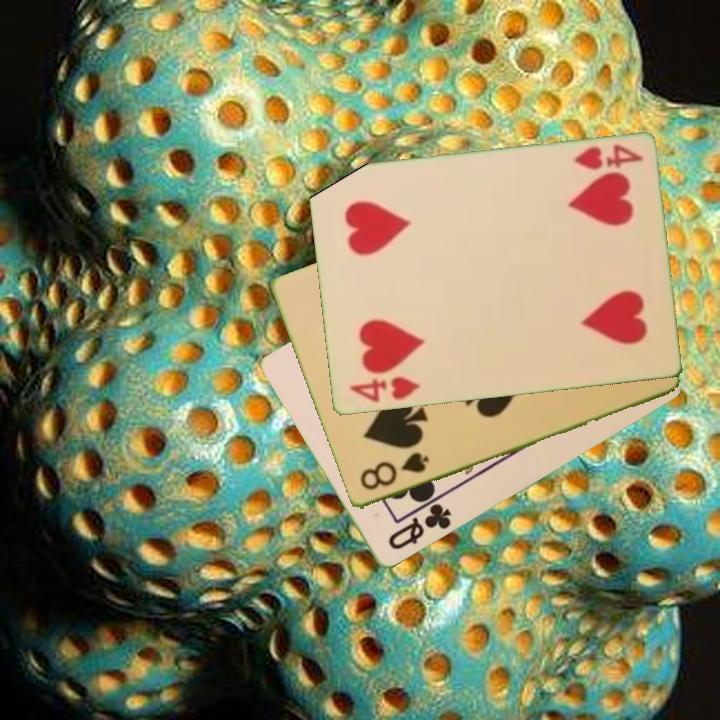4h: (345, 373, 423, 406), (570, 141, 645, 174)
8s: (356, 449, 432, 494)
Qc: (384, 500, 455, 554)
